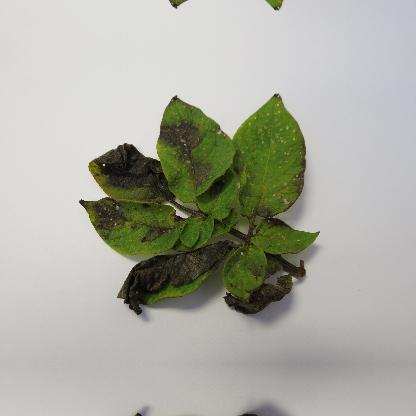Early-Blight: (46, 80, 344, 328), (218, 93, 318, 224), (108, 240, 244, 316), (150, 88, 232, 204), (74, 134, 183, 206), (80, 187, 196, 251), (223, 270, 308, 314)
